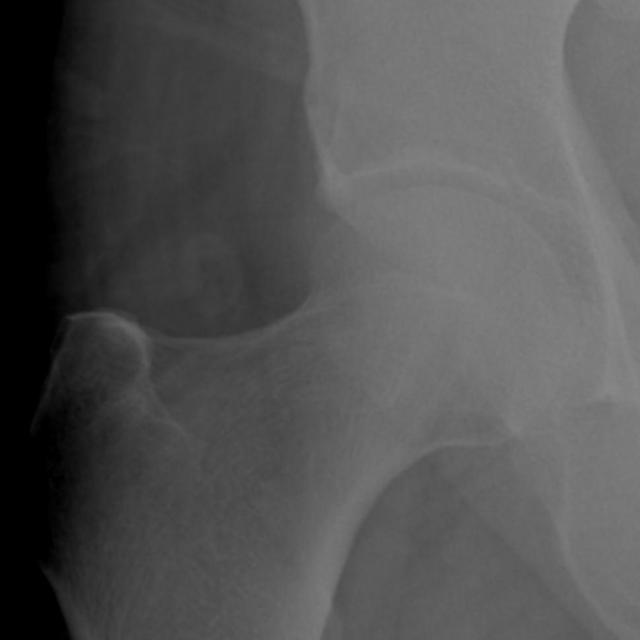Fitted_femural_head: (278, 185, 432, 278)
